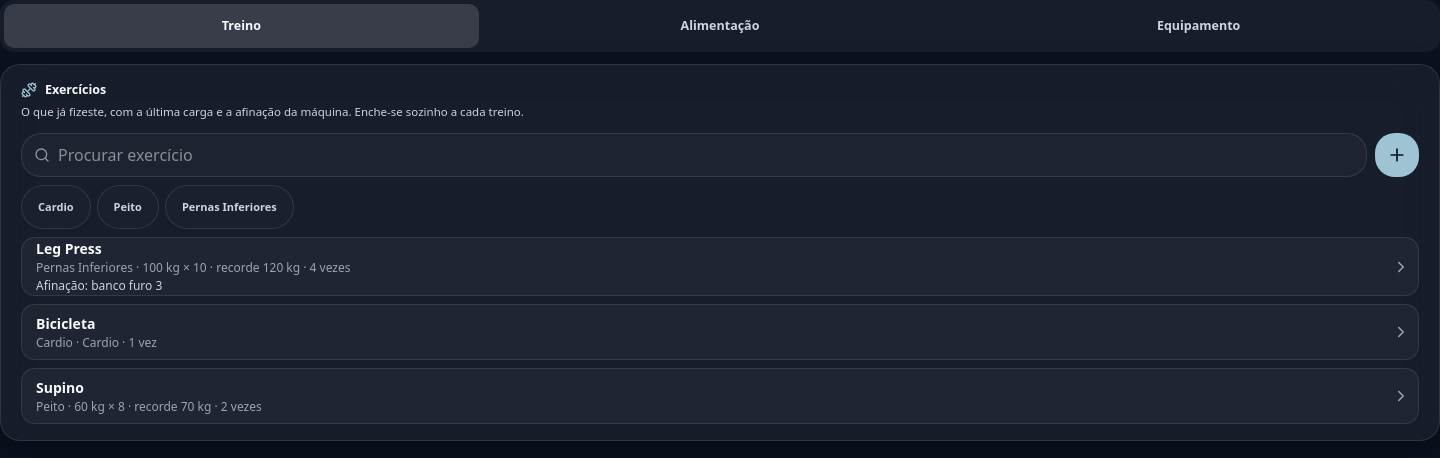
Test: Armário — submenus por secção (decisão 14) › três secções, a primeira (Treino) aberta; cada uma mostra só o seu painel
Click the tab "Alimentação": (720, 26) 483,4 -> 957,48
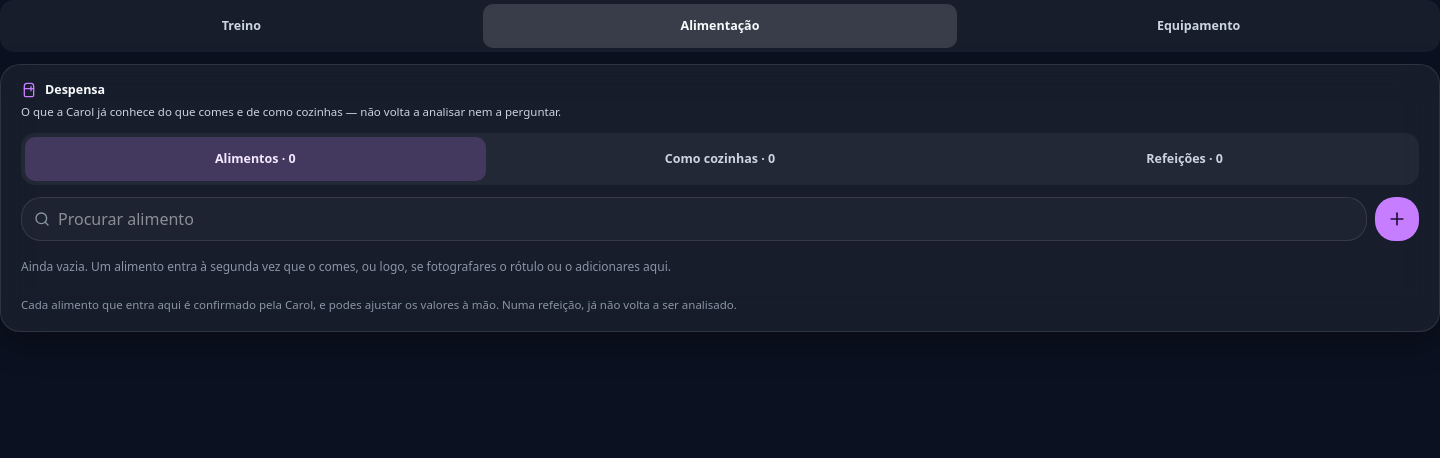
Check: the element with test id "pantry-section" is shown, box 0,64 -> 1439,332
Check: the element with test id "exercise-locker-section" is gone
Click the tab "Equipamento": (1199, 26) 961,4 -> 1436,48
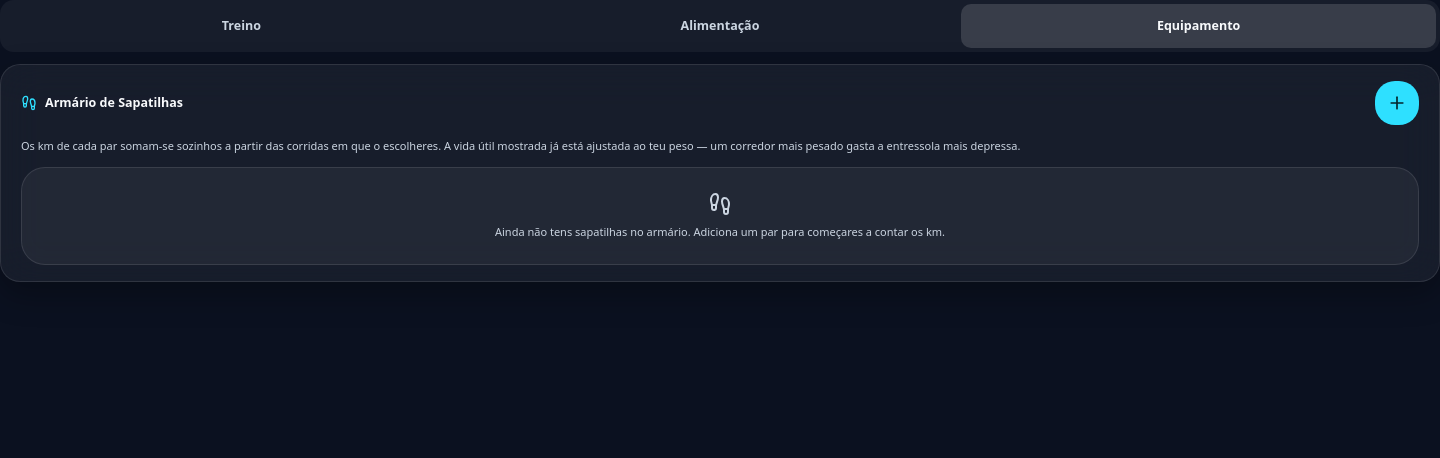
Check: the button named "Adicionar sapatilhas" is shown, box 1375,81 -> 1419,125
